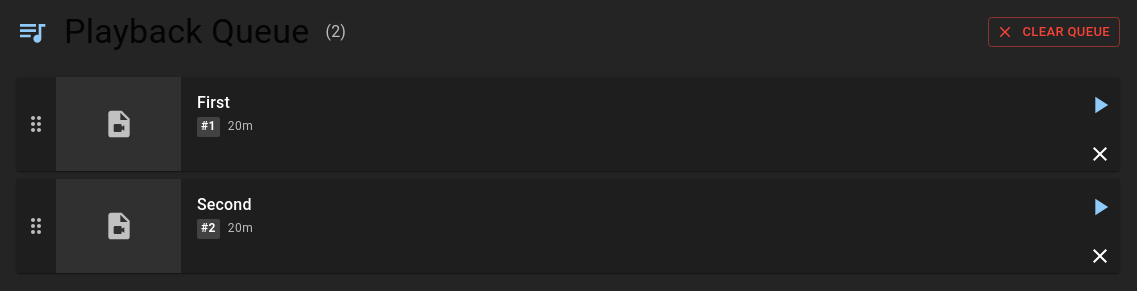
Test: QueuePage › empties the queue
Expected: the heading "First" is shown, left=197, top=93, right=230, bottom=112
What coordinates should you click on to do the following:
click the button "Clear Queue"
I would click on:
 (1054, 32)
Its box is left=988, top=17, right=1120, bottom=47.
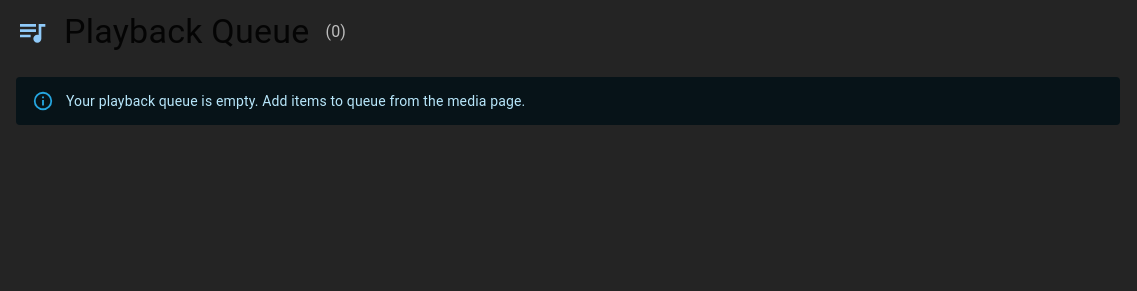
Result: the text "queue is empty" is shown at left=66, top=93, right=525, bottom=109
